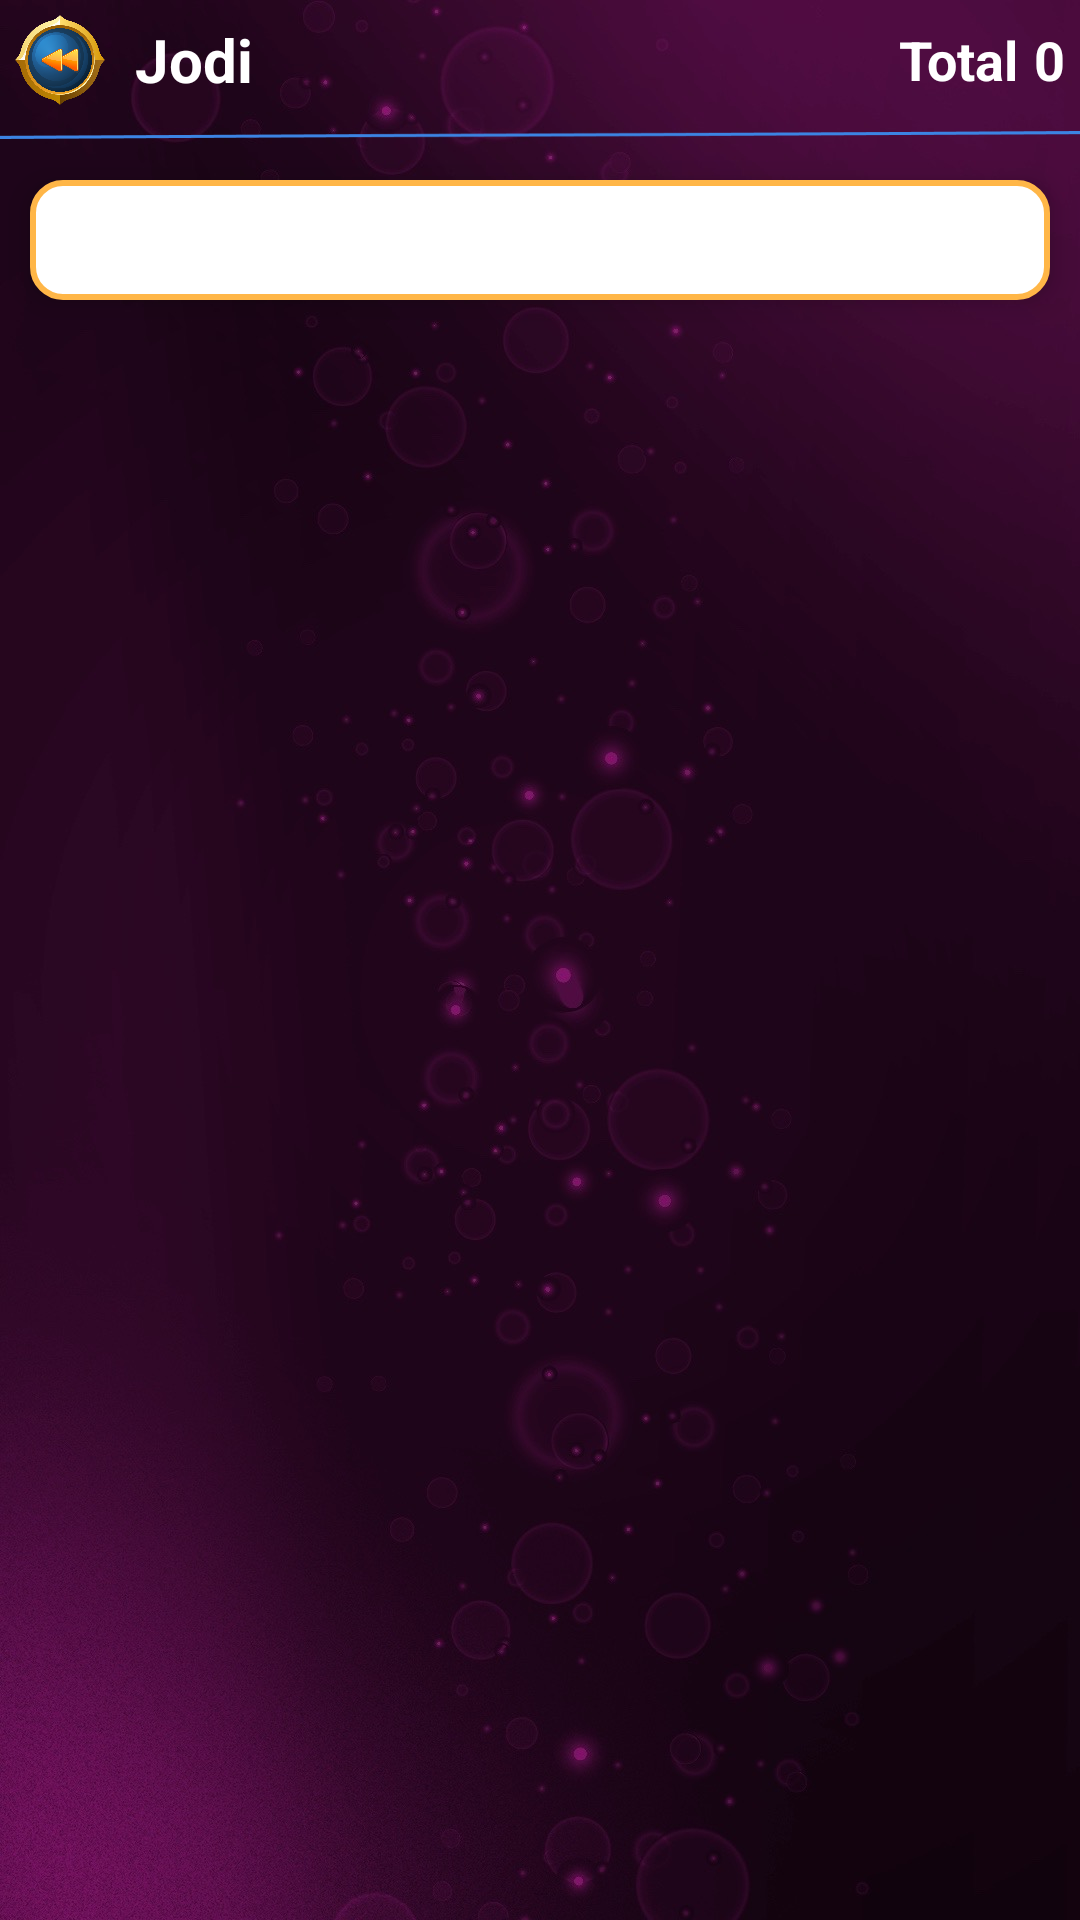

Screen size 1080 x 1920. Icon name, then its center in pixels as (x,y):
changebackbtn: (60,60)
